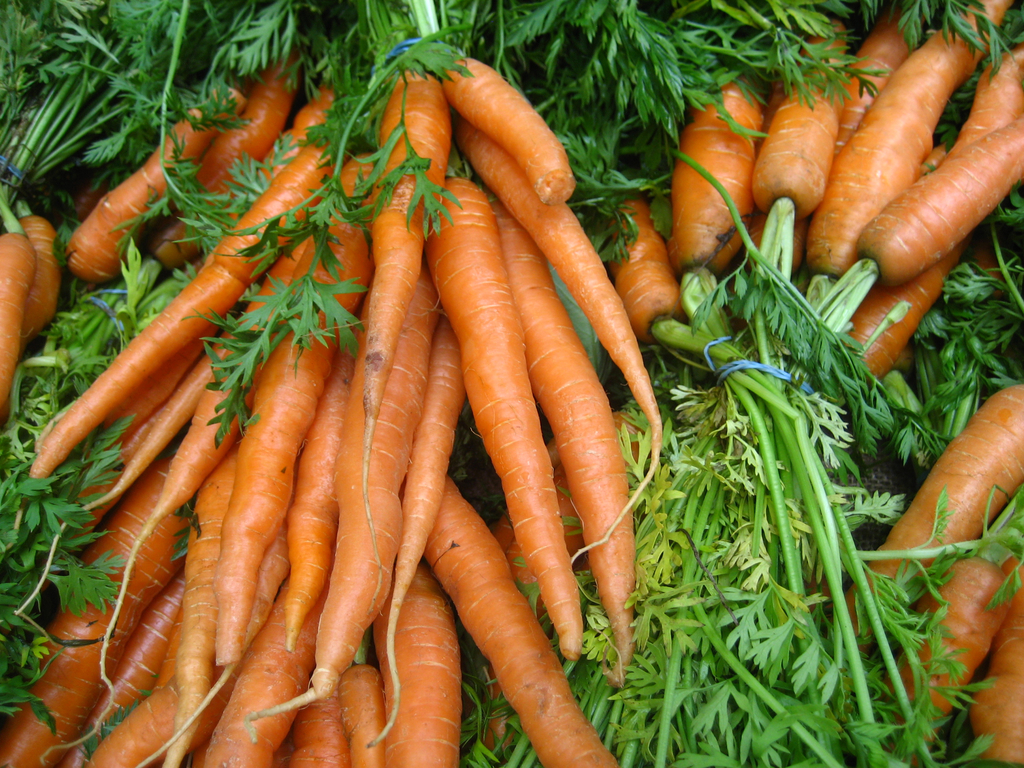Carrot: (0, 0, 1023, 767), (424, 170, 583, 663)
